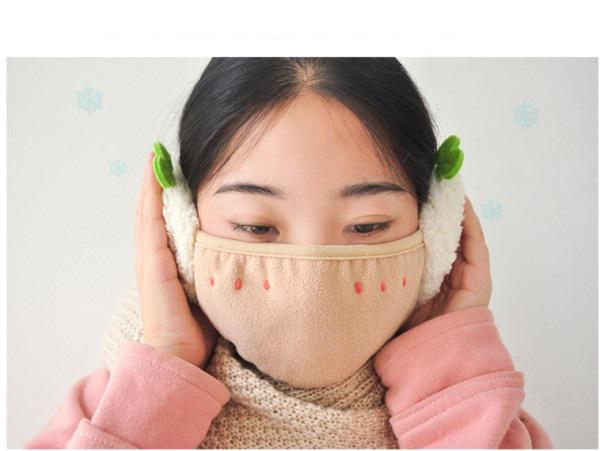OK: (201, 161, 424, 385)
